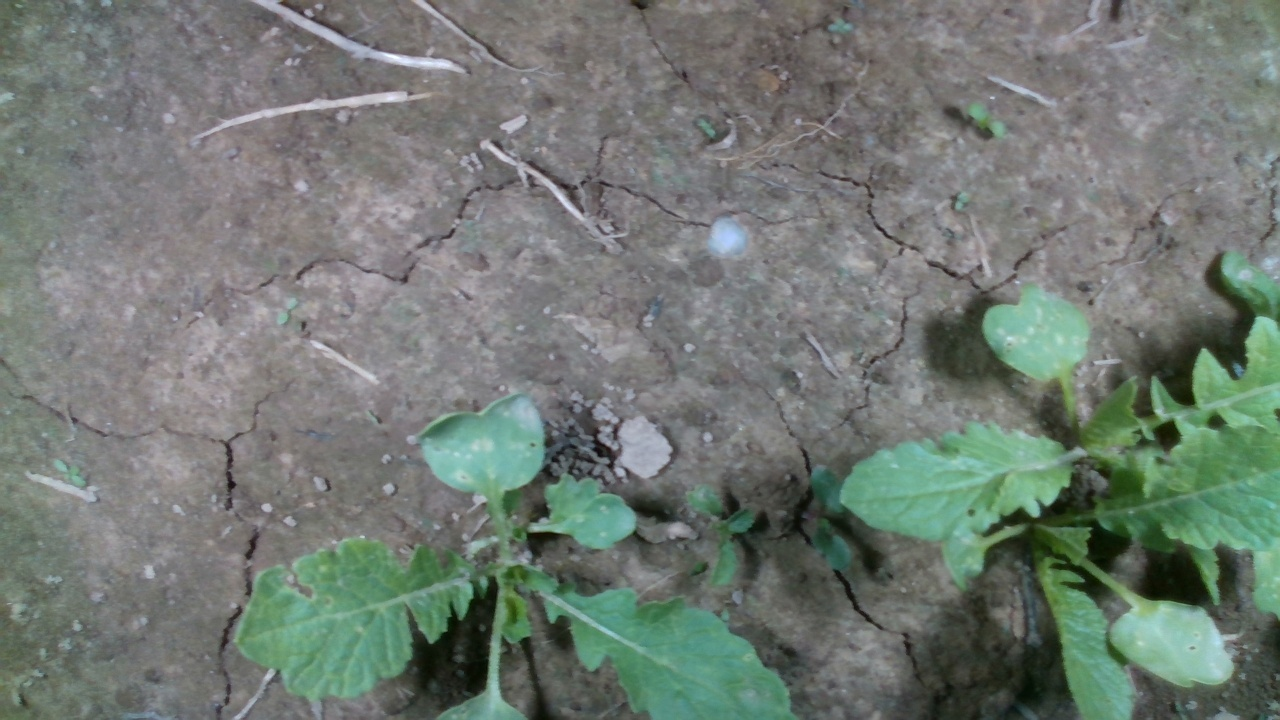weed: (966, 97, 1005, 141)
